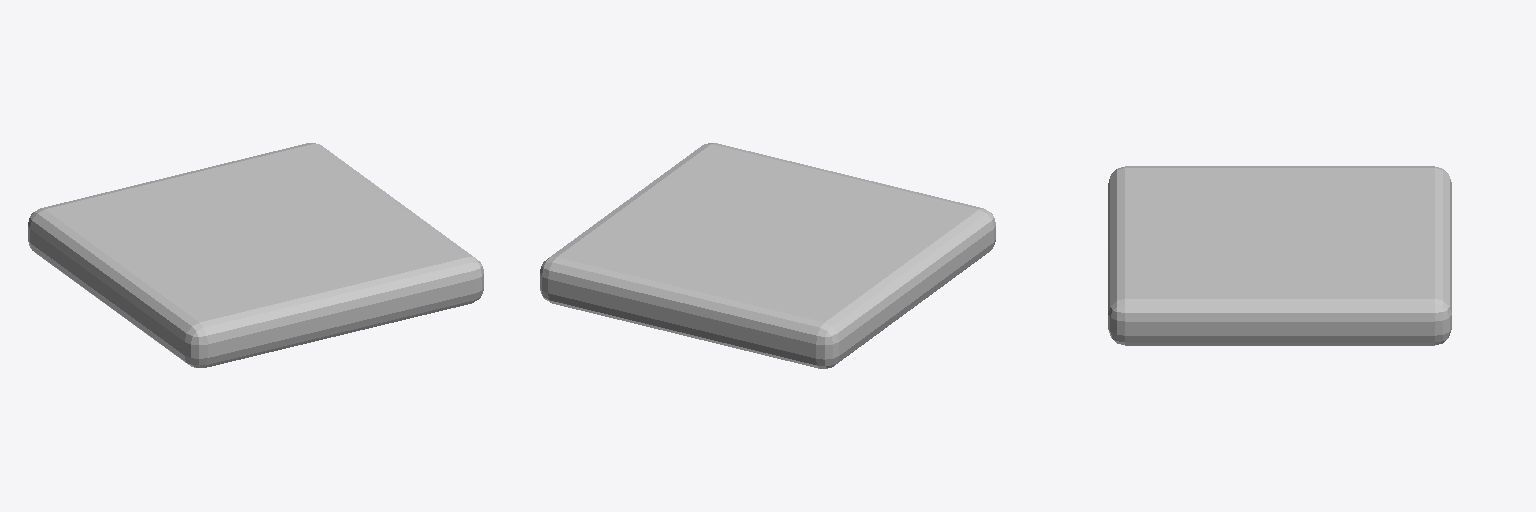
Rendered from test-floor2.obj.
3 views of the same model, side by side, from view 1: azimuth 30°, elevation 25°; view 2: azimuth 150°, elevation 25°; view 3: azimuth 270°, elevation 25° (orthographic).
Parts seen in each view (by area): view 1: floor_Cube; view 2: floor_Cube; view 3: floor_Cube.
Part boxes in pixels (left/top/right/bottom): floor_Cube: left=28, top=143, right=483, bottom=367; floor_Cube: left=540, top=143, right=995, bottom=368; floor_Cube: left=1108, top=166, right=1451, bottom=345.
Size of the model in its own units: 2 by 0.2911 by 2.